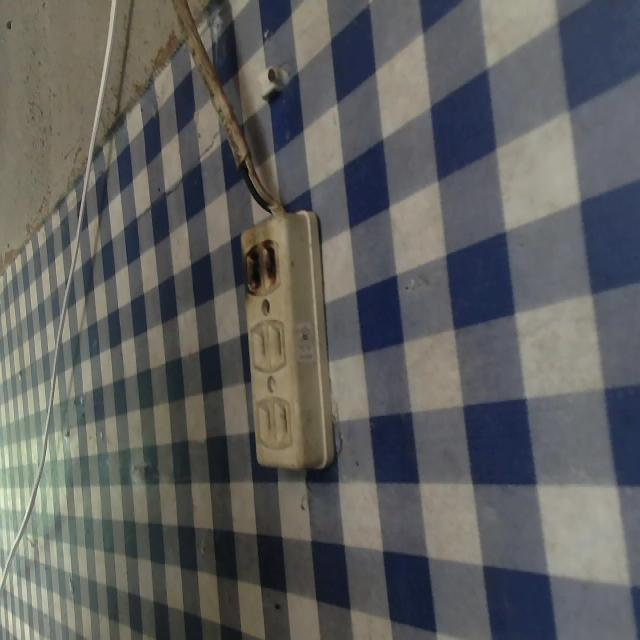-: (228, 229, 290, 300)
